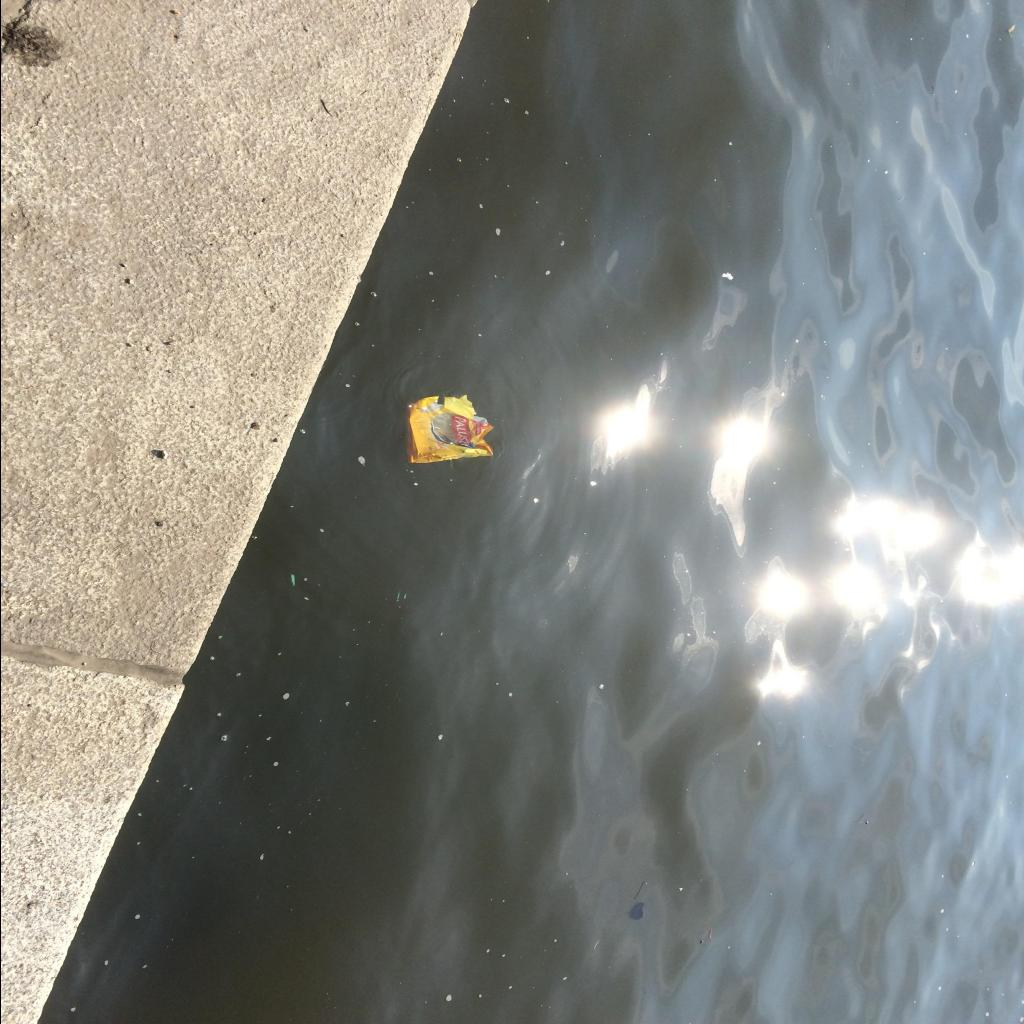Other plastic bottle: (290, 574, 294, 586)
Plastic film: (406, 395, 494, 463)
Unlabeled litter: (396, 590, 400, 600), (403, 594, 405, 598)
